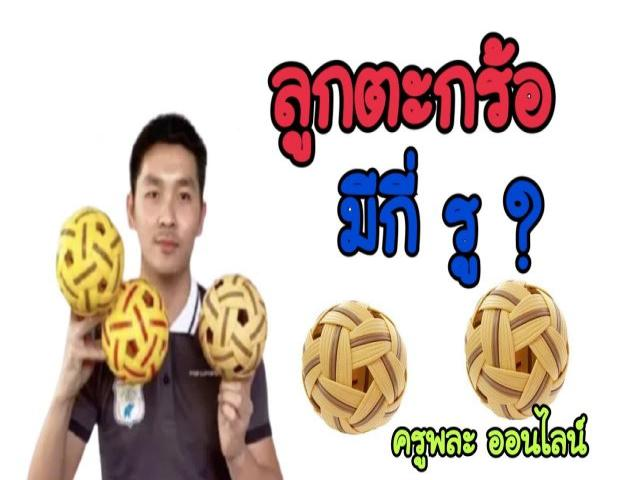round ball: (465, 280, 569, 419), (302, 301, 406, 434), (56, 207, 124, 317), (199, 275, 268, 380), (101, 278, 169, 384)
